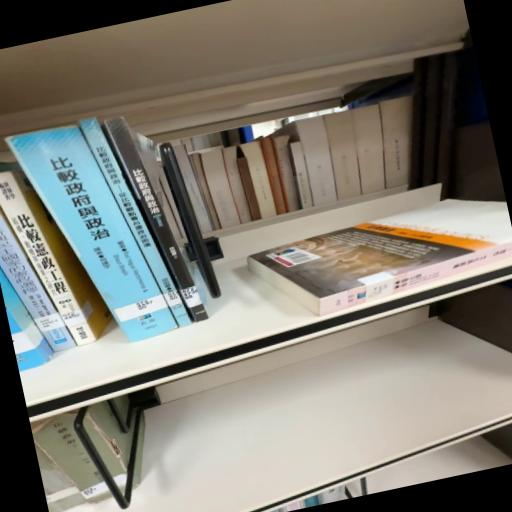flat: (248, 200, 512, 316)
